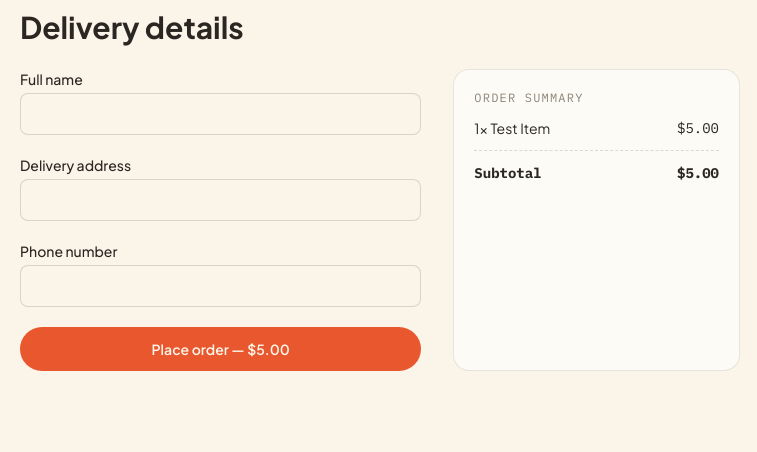
Test: CheckoutPage › blocks submission and shows field errors when required fields are missing
Click the button "Place order — $5.00": (221, 349) [20,327,421,371]
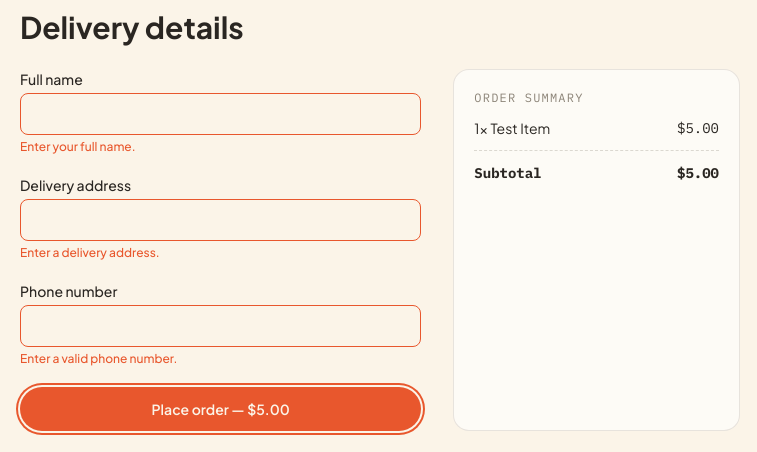
Expected: the text "Enter your full name." is shown, [20,139,136,154]
Expected: the text "Enter a delivery address." is shown, [20,245,160,260]
Expected: the text "Enter a valid phone number." is shown, [20,351,177,366]
